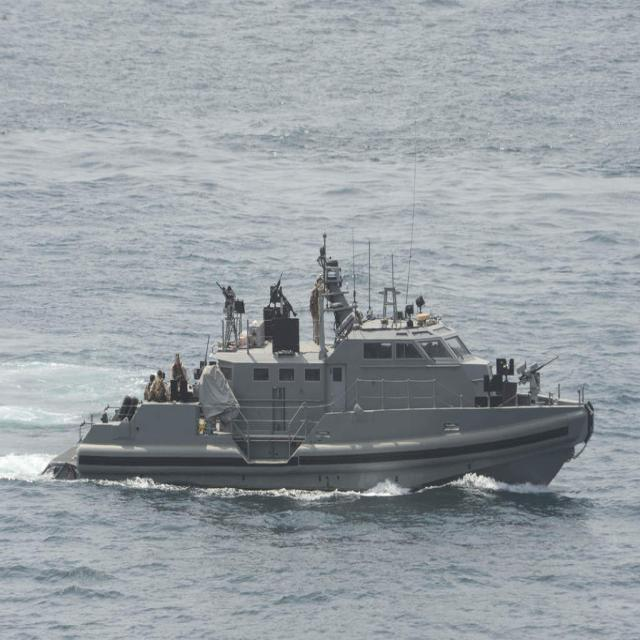Boat: (106, 218, 517, 505)
